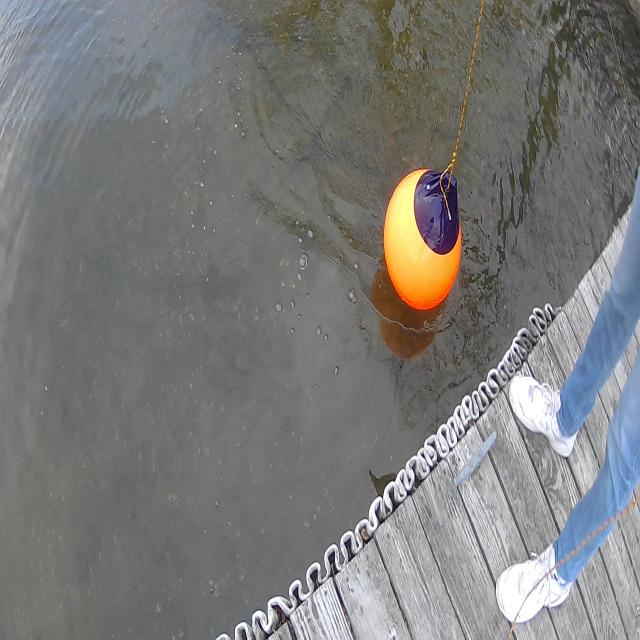Buoy: (377, 158, 470, 336)
